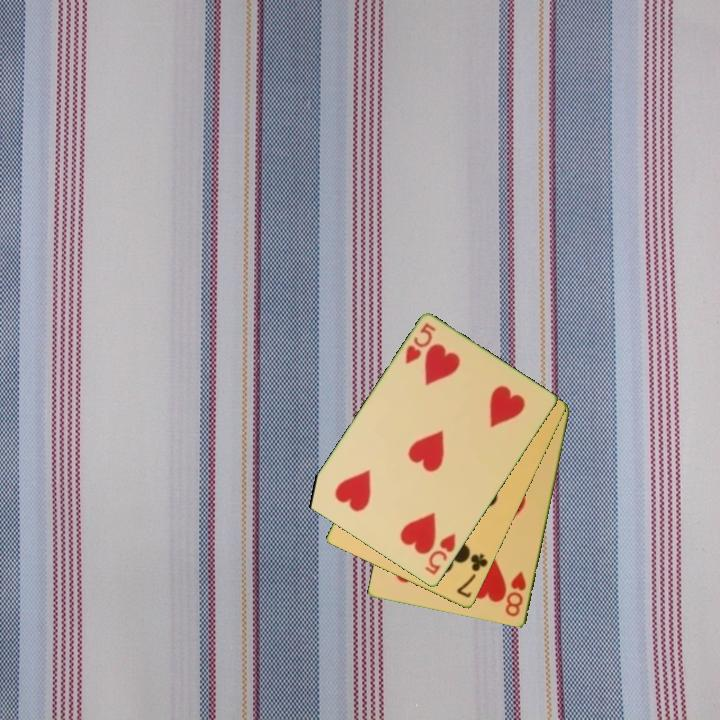5h: (421, 530, 459, 578), (402, 320, 438, 367)
7c: (453, 550, 491, 601)
8h: (502, 568, 529, 620)
